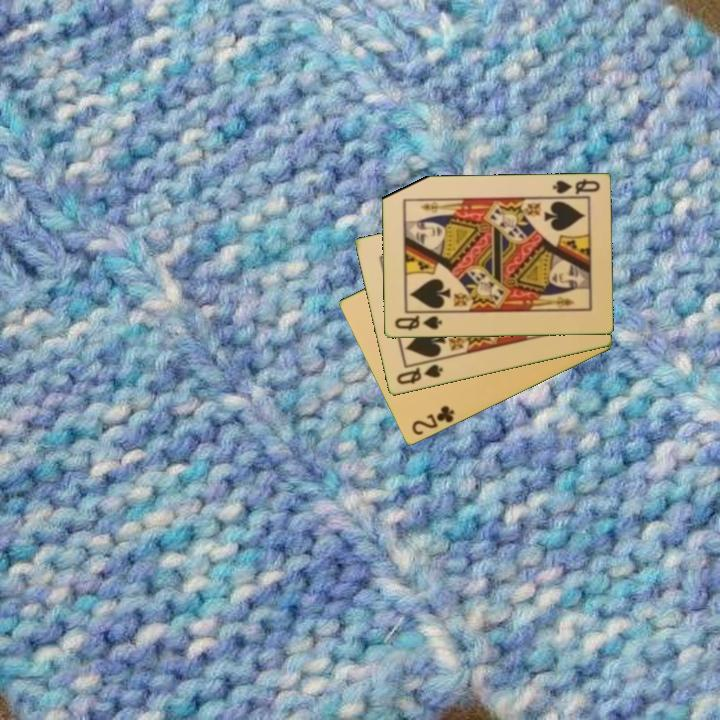2c: (408, 402, 457, 439)
Qs: (393, 361, 446, 388), (548, 176, 602, 200), (391, 312, 445, 334)
